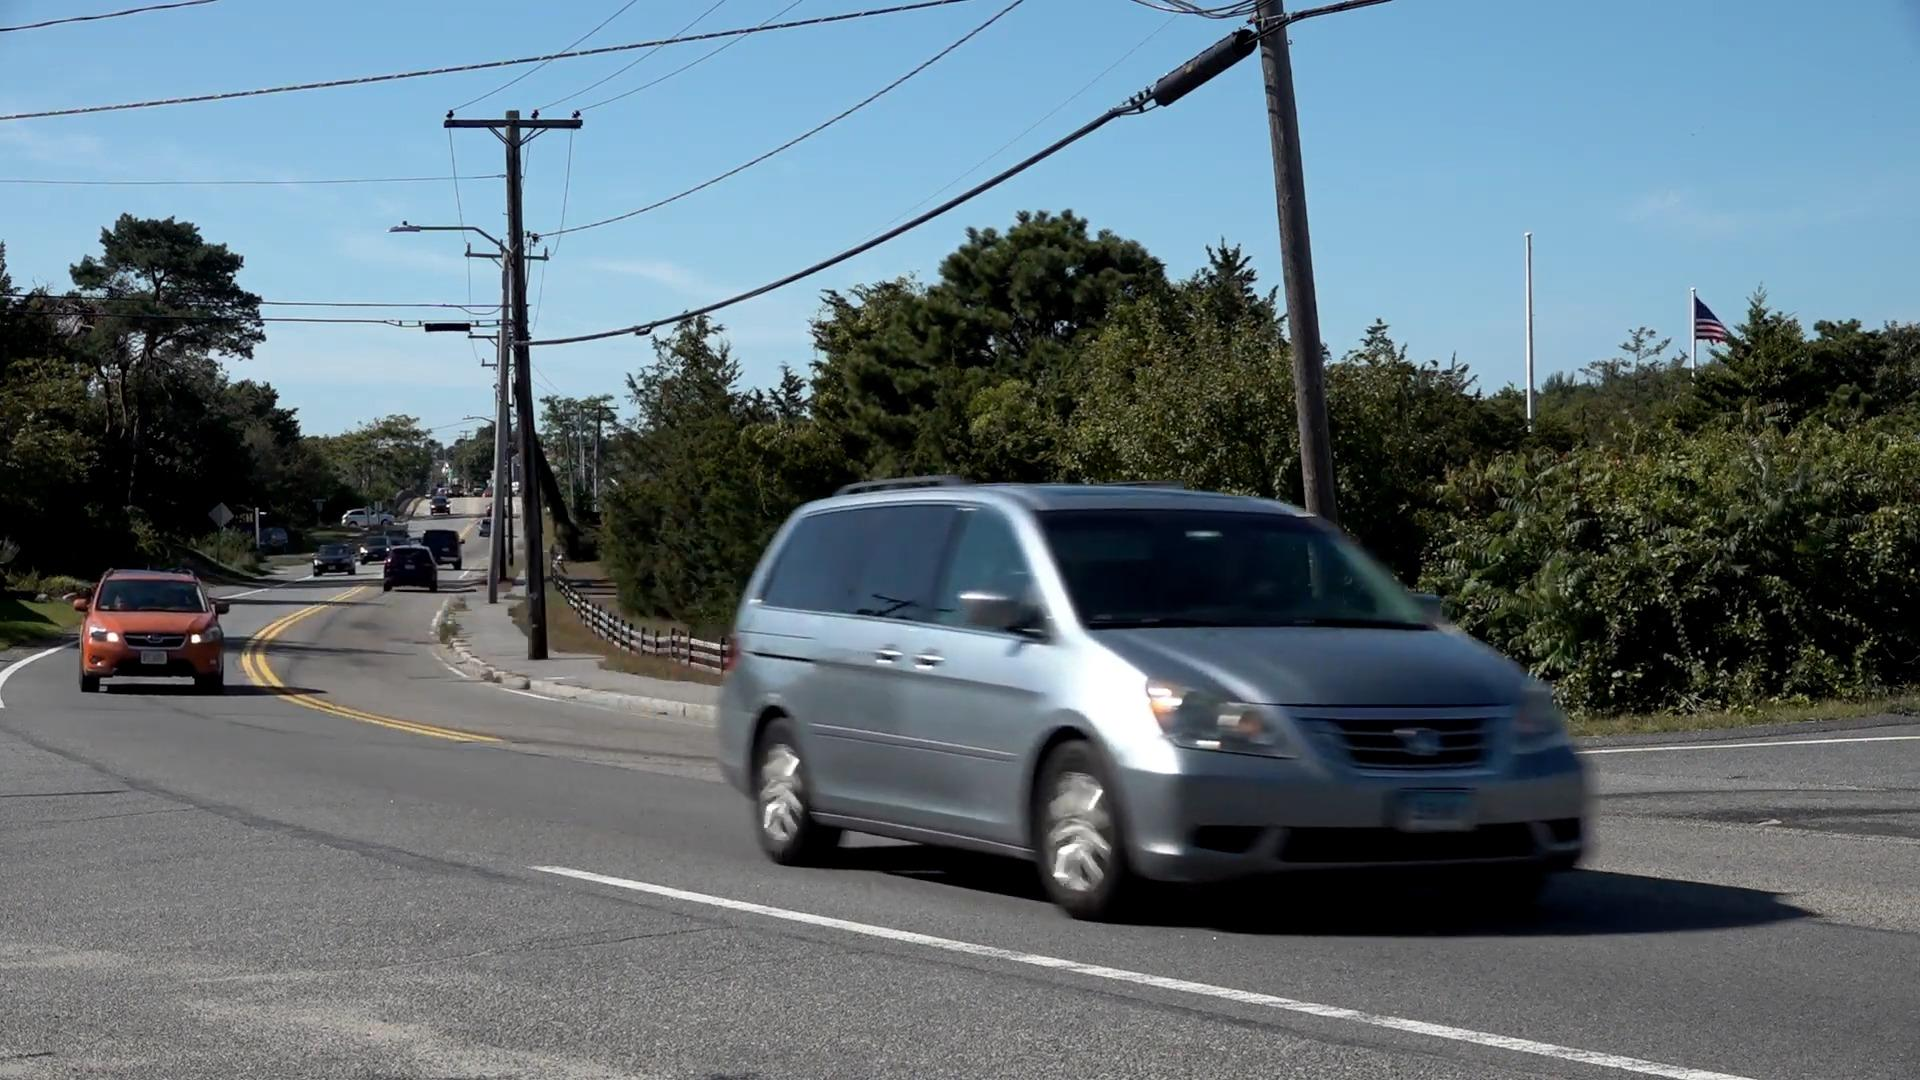minivan: (720, 481, 1600, 926)
sedans: (313, 542, 357, 578)
suv: (76, 564, 227, 690), (381, 547, 438, 592)
